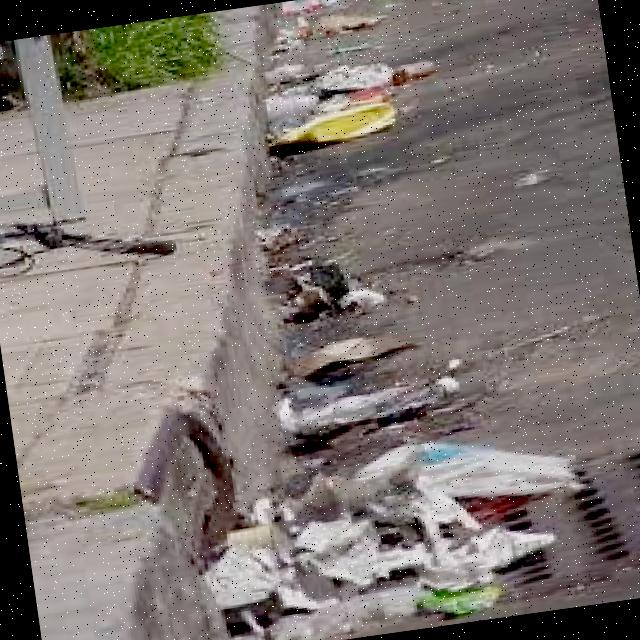curb: (11, 392, 240, 640), (148, 12, 309, 309), (128, 273, 298, 508)
